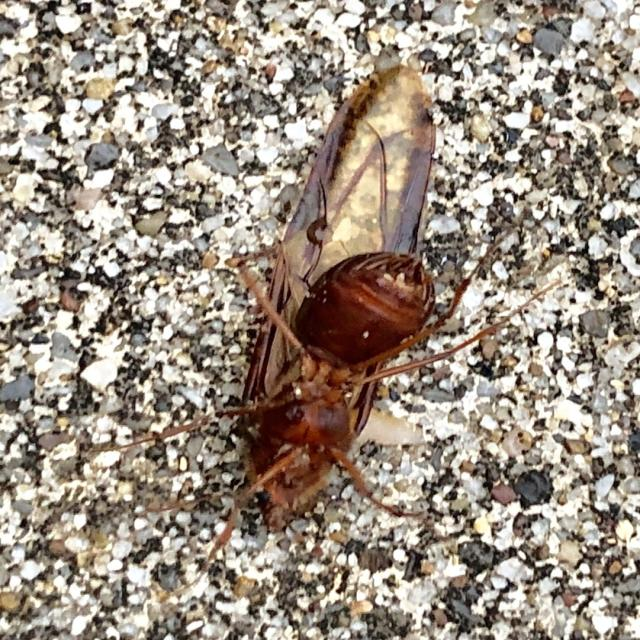Dead-Male-Alate: (88, 65, 562, 597)
